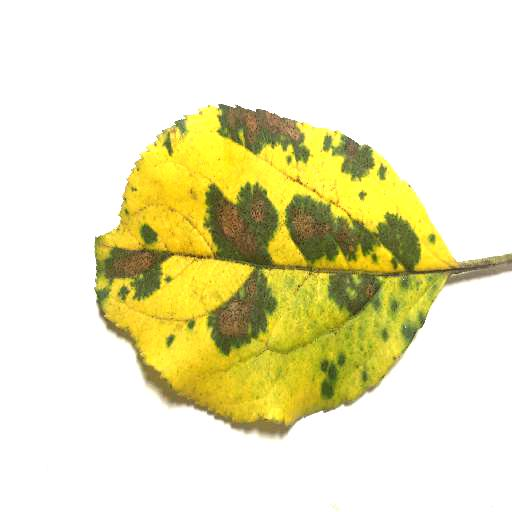Brown_Spot: (201, 195, 268, 266), (212, 105, 301, 152), (204, 277, 266, 341), (287, 209, 369, 249), (105, 244, 164, 280), (344, 137, 363, 164), (351, 286, 386, 298)
